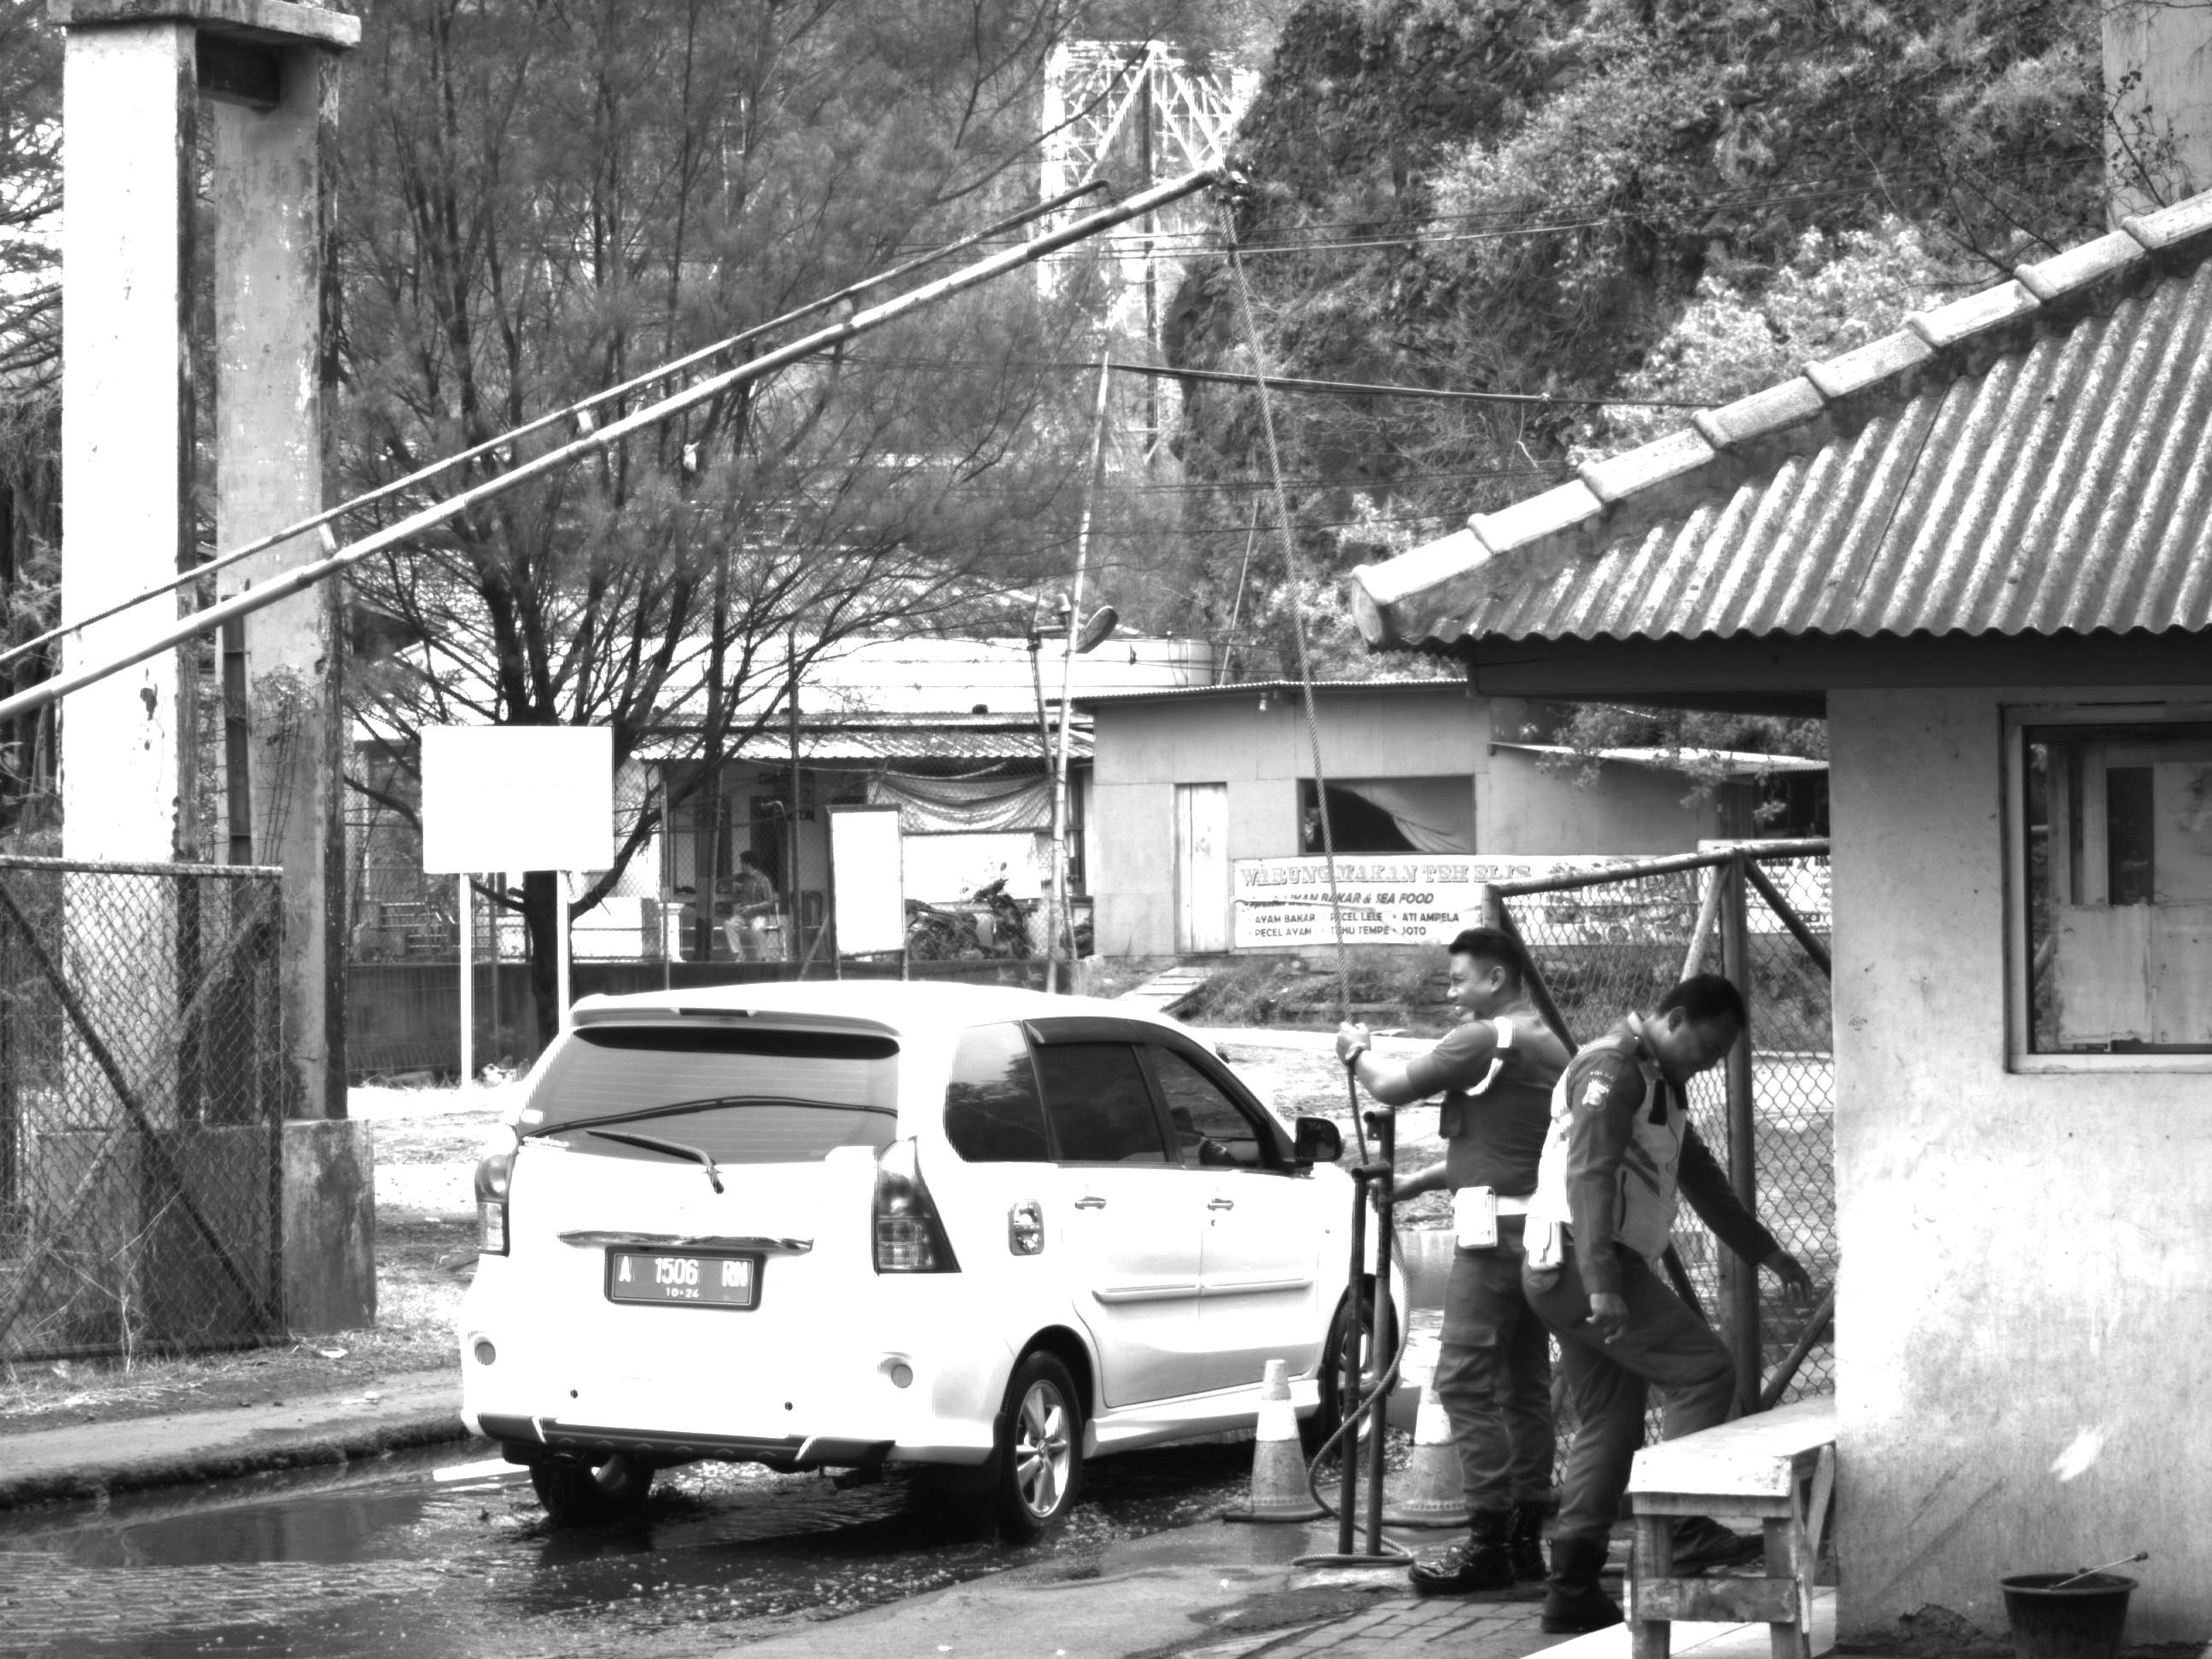day_small_rear: (454, 976, 1091, 1536)
plate: (610, 1246, 766, 1311)
